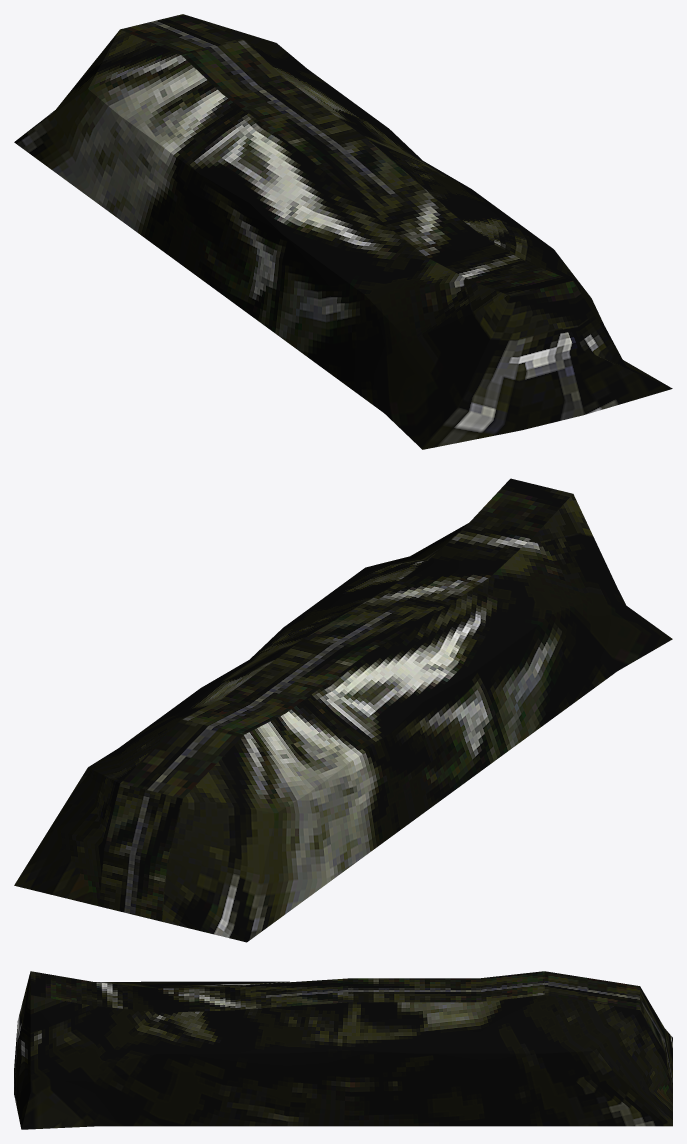
The model's file is SM_BodyBag.fbx.
3 renders of one model, top to bottom at view 1: azimuth 30°, elevation 25°; view 2: azimuth 150°, elevation 25°; view 3: azimuth 270°, elevation 25°, orthographic. The views are drawn at different scales.
Visible parts, largest first — view 1: SM_BodyBag; view 2: SM_BodyBag; view 3: SM_BodyBag.
Boxes of the visible parts, bbox=[...] form: SM_BodyBag: bbox=[14, 14, 672, 449]; SM_BodyBag: bbox=[14, 478, 672, 942]; SM_BodyBag: bbox=[14, 971, 672, 1129].
Size of the model in its own units: 62.02 by 30 by 181.
